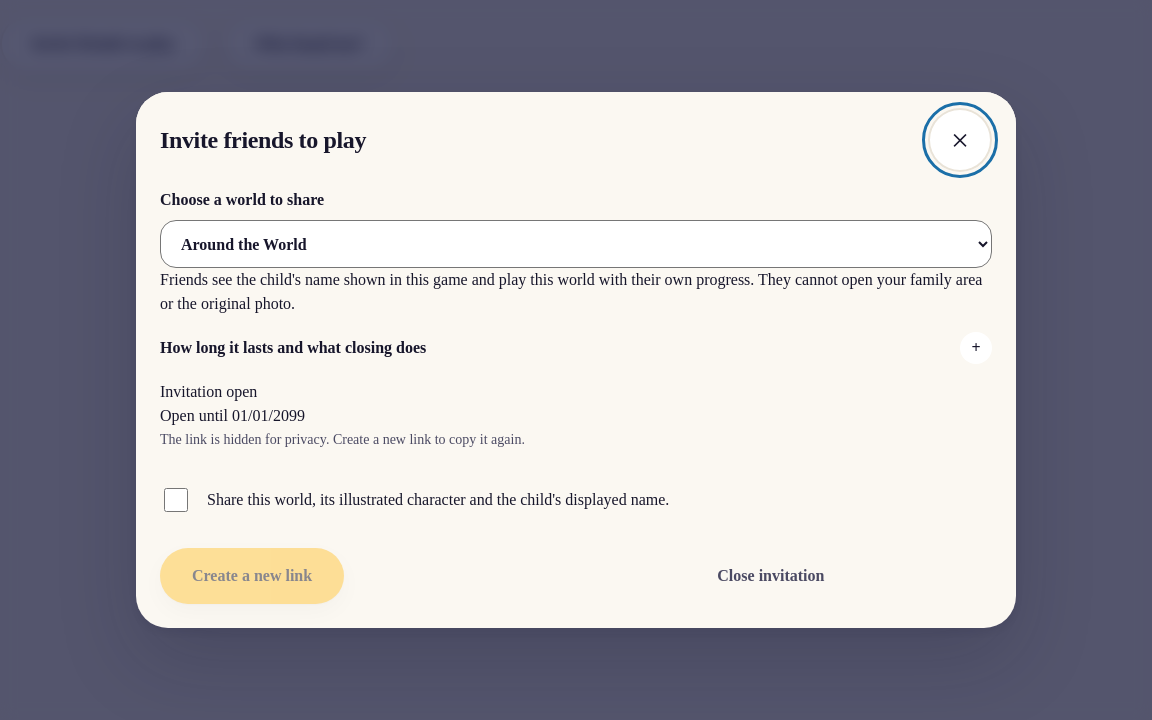
Test: parent-managed friends invitations › asks specifically before replacement, allows cancellation, then sends consent once after confirmation
Expected: the text "Invitation open" is shown, [160,383,257,400]
Click the checkbox labelled "Share this world, its illustrated character and the child's displayed name.": [176, 500] box [164,488,188,512]
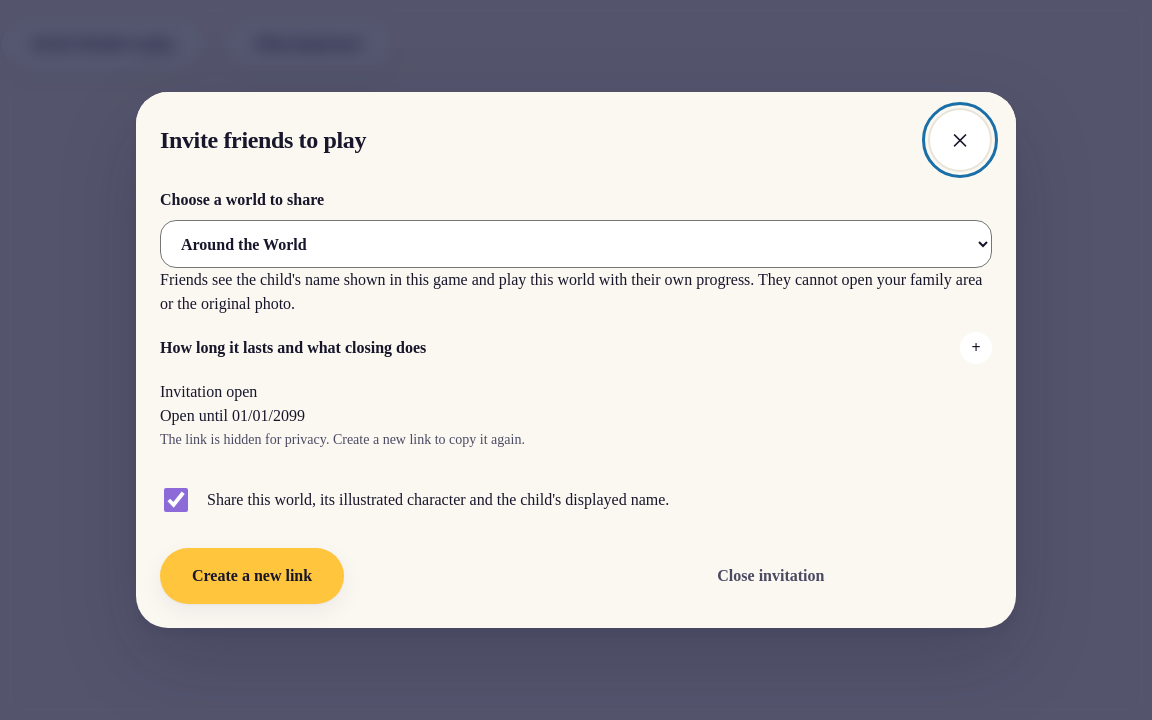
Click the button "Create a new link": [252, 576] box [160,548,344,604]
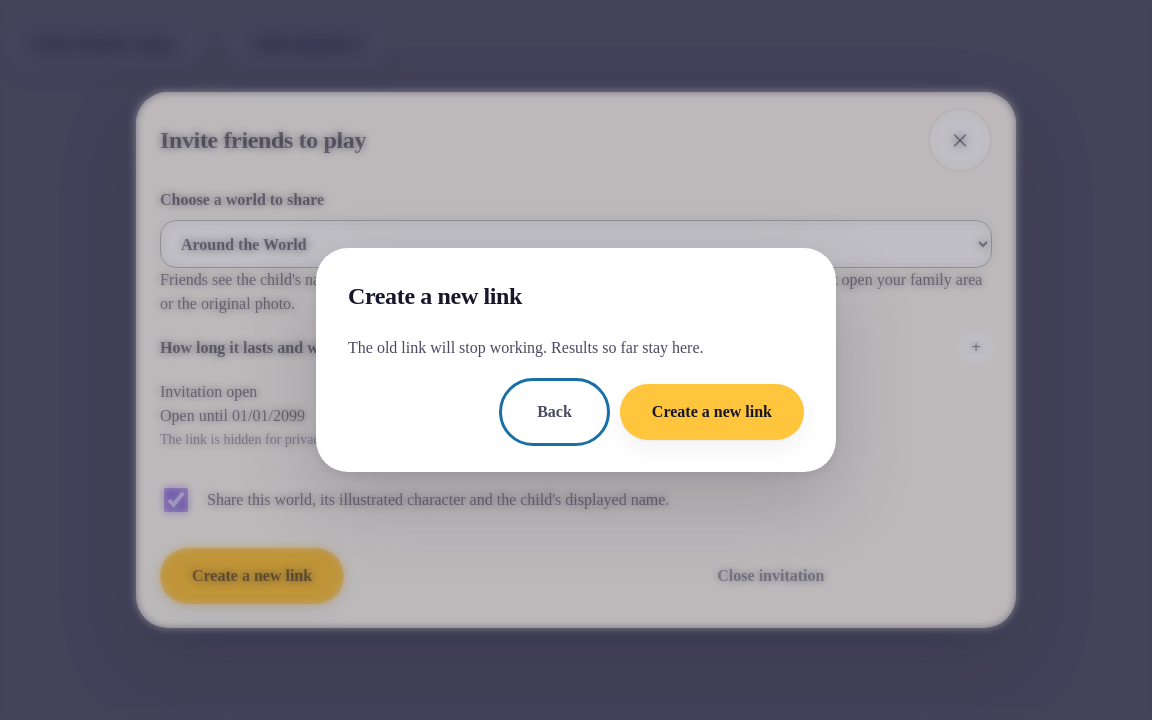
Expected: the text "The old link will stop working. Results so far stay here." is shown, [348,339,704,356]
Click the button "Back": [555, 412] box [505,384,604,440]
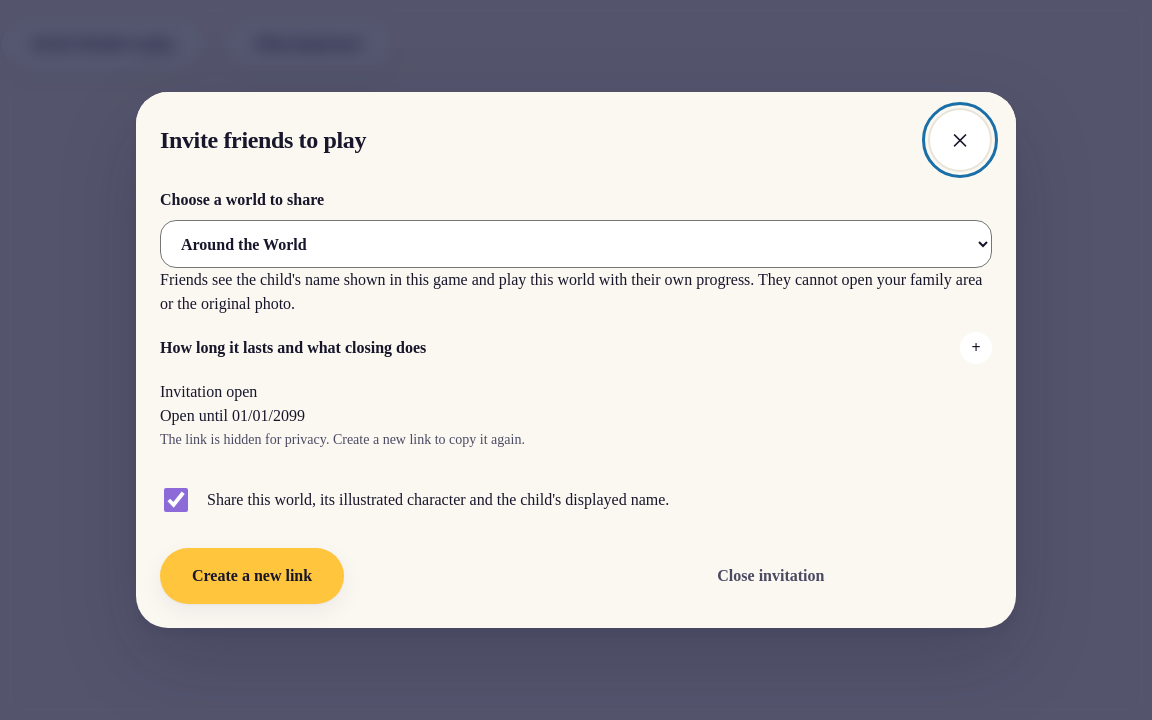
Click the button "Create a new link": [252, 576] box [160,548,344,604]
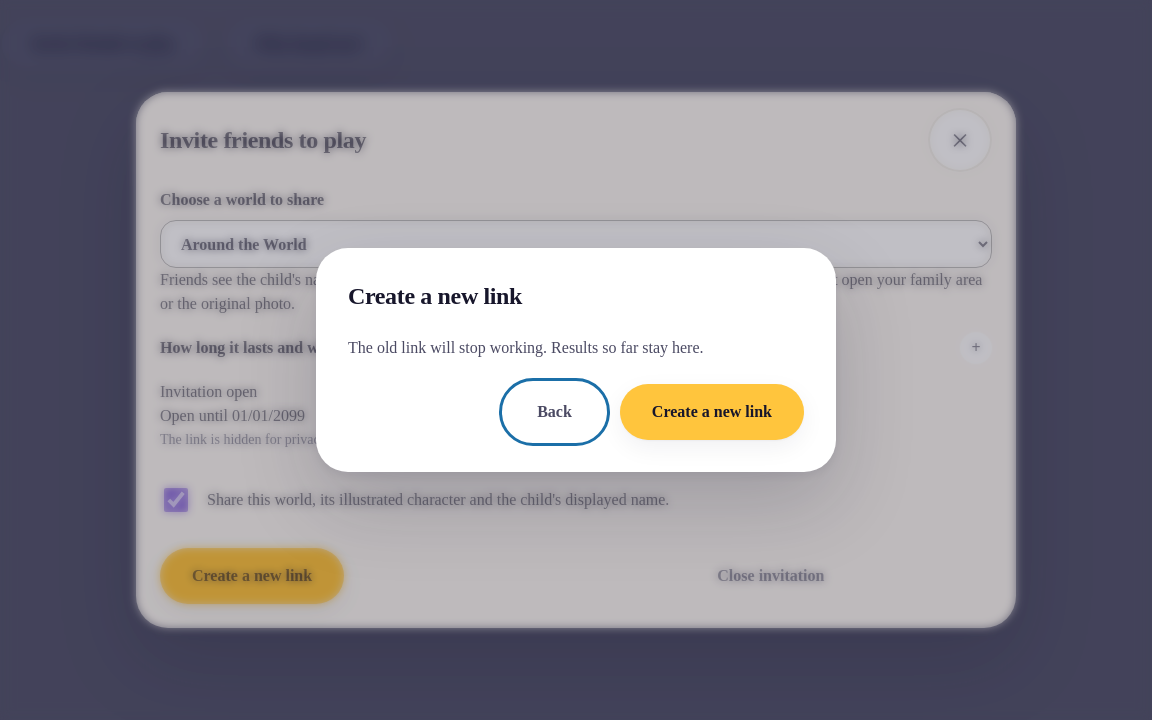
Click the button "Create a new link": [712, 412] box [620,384,804,440]
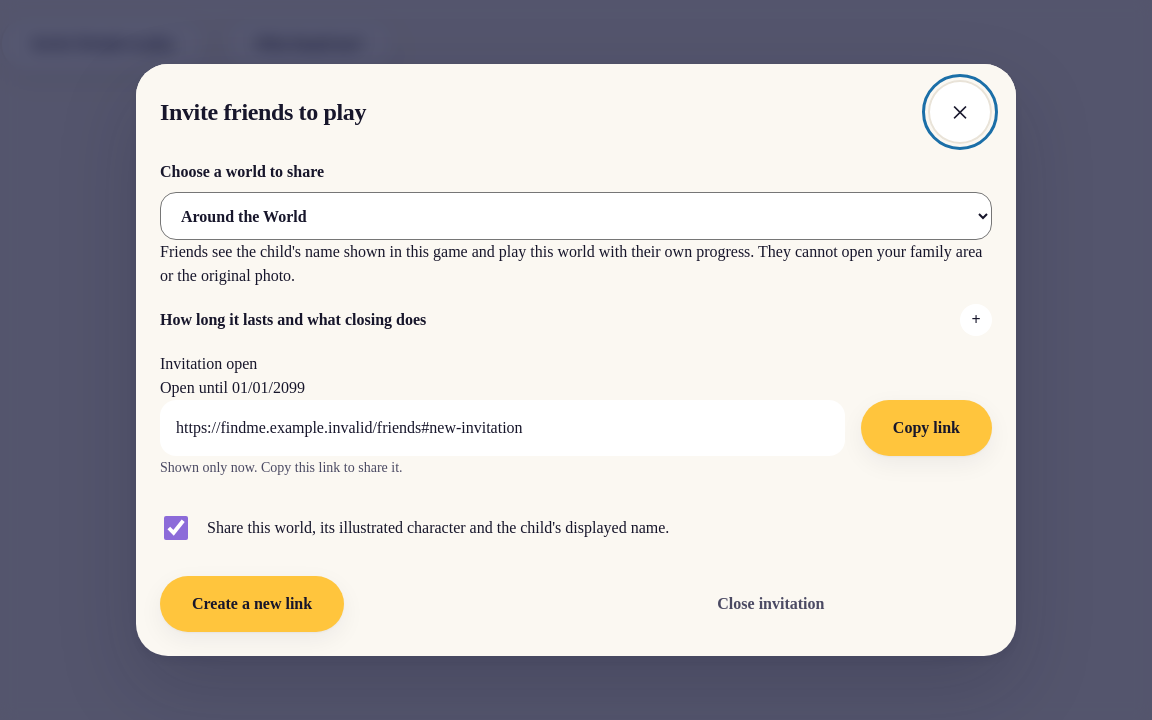
Expected: the text "Shown only now. Copy this link to share it." is shown, [160,460,402,475]
